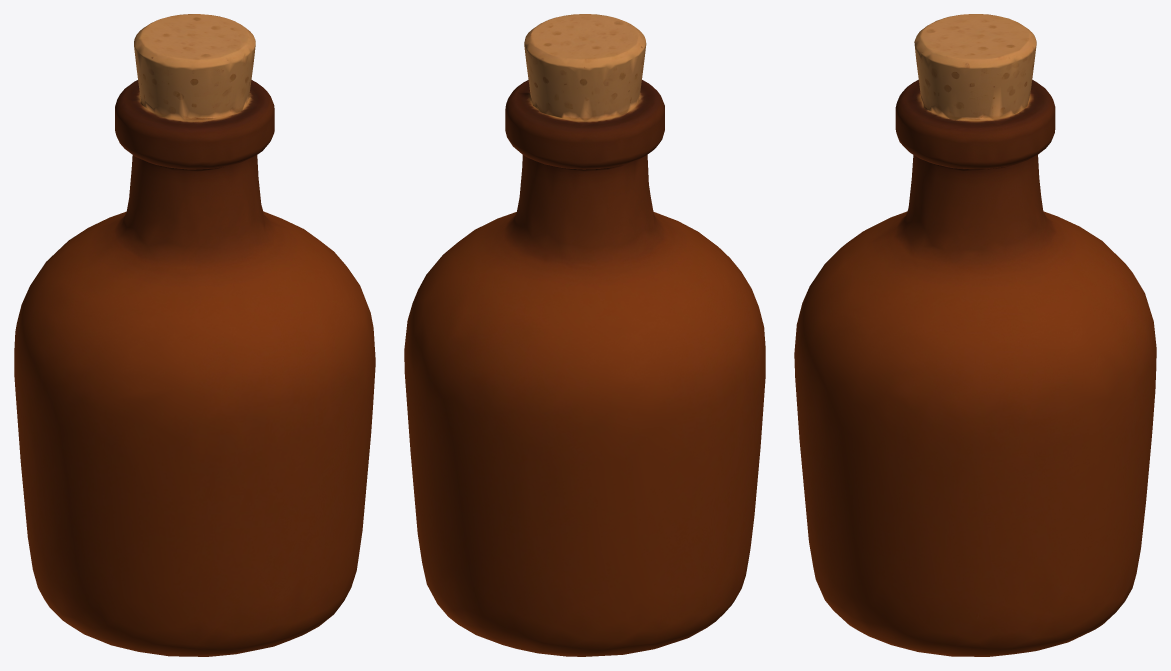
Rendered from rum.glb.
3 views of the same model, side by side, from view 1: azimuth 30°, elevation 25°; view 2: azimuth 150°, elevation 25°; view 3: azimuth 270°, elevation 25° (orthographic).
Visible parts, largest first — view 1: tripo_node_180cae4a-eaec-47aa-9225-0279c4a0108c; view 2: tripo_node_180cae4a-eaec-47aa-9225-0279c4a0108c; view 3: tripo_node_180cae4a-eaec-47aa-9225-0279c4a0108c.
Boxes of the visible parts, left/top/right/bottom form: tripo_node_180cae4a-eaec-47aa-9225-0279c4a0108c: left=14, top=14, right=375, bottom=656; tripo_node_180cae4a-eaec-47aa-9225-0279c4a0108c: left=404, top=14, right=765, bottom=656; tripo_node_180cae4a-eaec-47aa-9225-0279c4a0108c: left=794, top=14, right=1156, bottom=656.
Size of the model in its own units: 0.5774 by 1 by 0.5783.
Materials: 1 (1 with a texture image).
